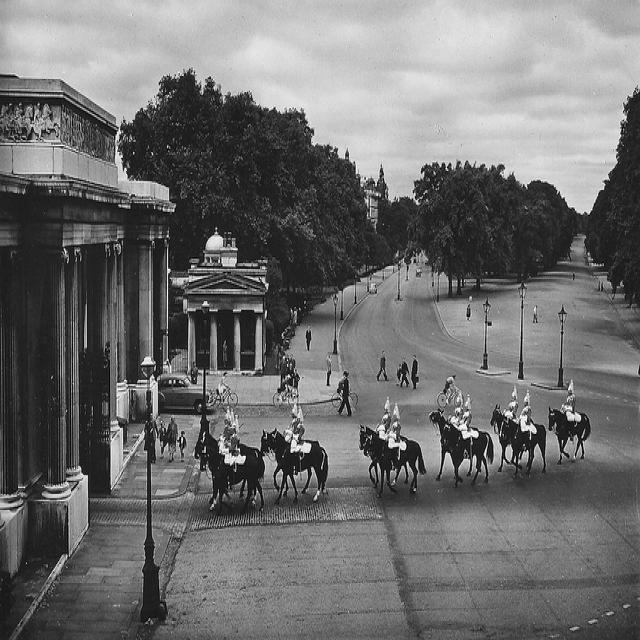Vehicle: (156, 372, 217, 416), (369, 283, 377, 294), (214, 370, 220, 376)
